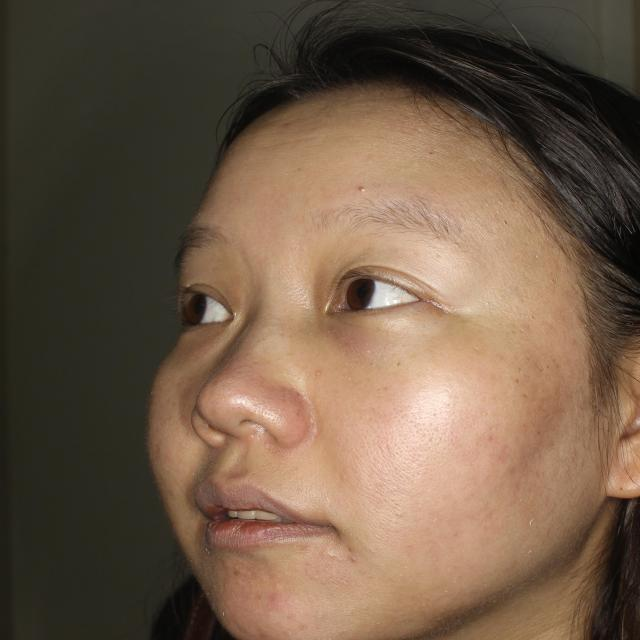comedone: (252, 587, 294, 615)
